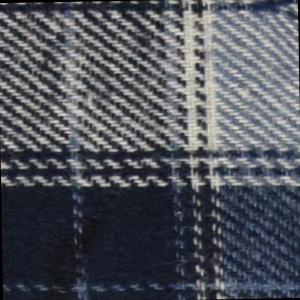Stain: (37, 200, 115, 300)
